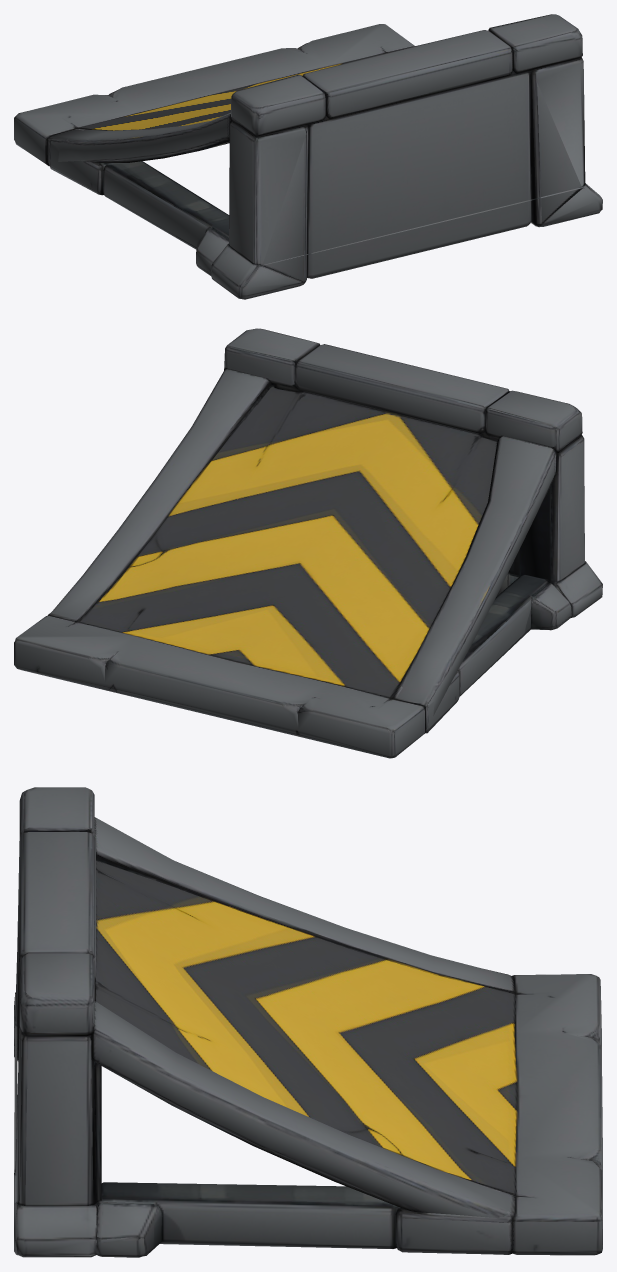
Rendered from ramp.glb.
3 views of the same model, one above another, from view 1: azimuth 30°, elevation 25°; view 2: azimuth 150°, elevation 25°; view 3: azimuth 270°, elevation 25° (orthographic). The views are drawn at different scales.
Parts seen in each view (by area): view 1: tripo_node_506db2d4-23aa-4e96-ba9e-bd4dab79c29b; view 2: tripo_node_506db2d4-23aa-4e96-ba9e-bd4dab79c29b; view 3: tripo_node_506db2d4-23aa-4e96-ba9e-bd4dab79c29b.
Part boxes in pixels (bbox=[...]): tripo_node_506db2d4-23aa-4e96-ba9e-bd4dab79c29b: bbox=[14, 14, 602, 299]; tripo_node_506db2d4-23aa-4e96-ba9e-bd4dab79c29b: bbox=[14, 328, 602, 758]; tripo_node_506db2d4-23aa-4e96-ba9e-bd4dab79c29b: bbox=[14, 787, 602, 1257].
Size of the model in its own units: 2.22 by 1.05 by 2.24.
Materials: 1 (1 with a texture image).
